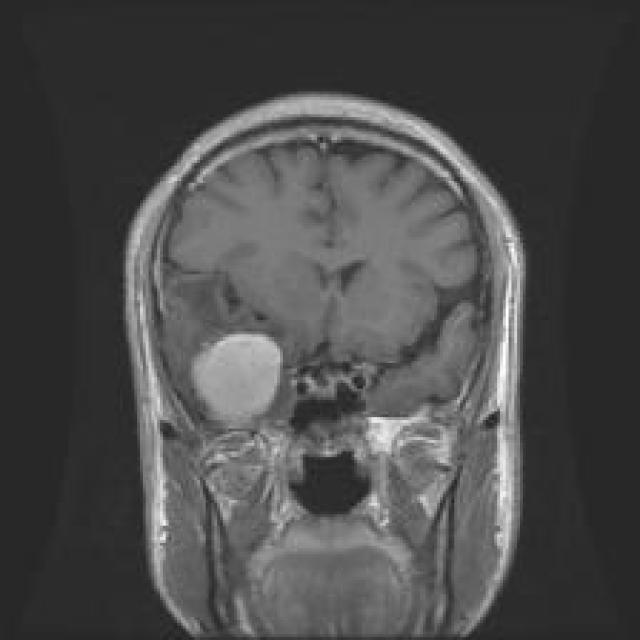meningioma_tumor: (172, 315, 293, 437)
